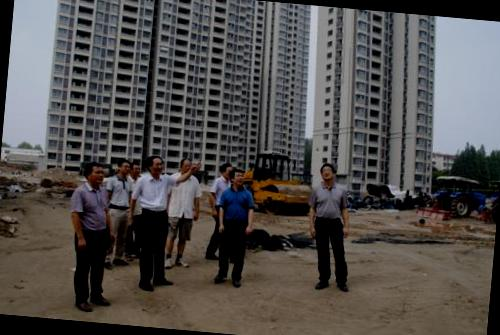no_helmet: (81, 158, 107, 188), (143, 151, 168, 178), (316, 160, 338, 182), (229, 166, 247, 188), (216, 160, 234, 180), (114, 156, 132, 176), (177, 155, 193, 175), (128, 158, 144, 178)
